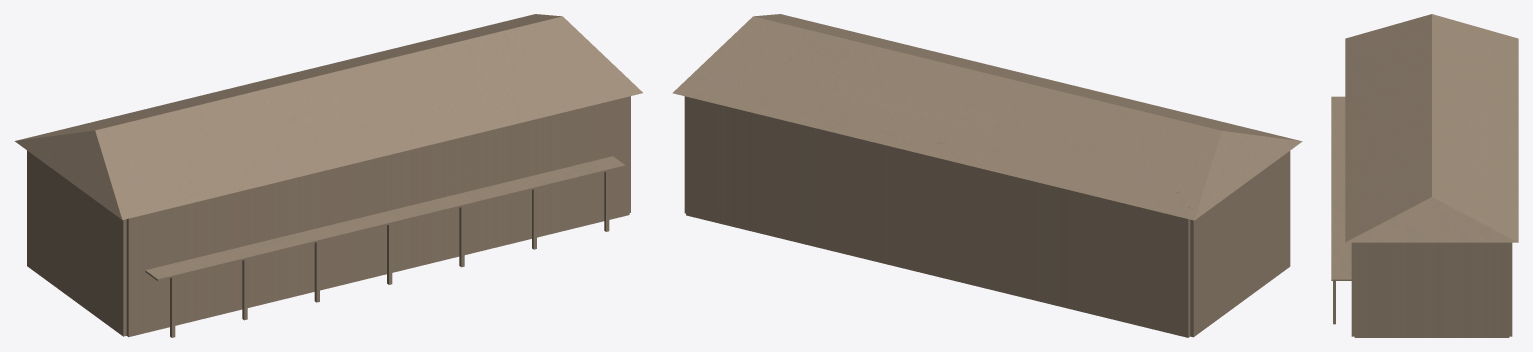
The model's file is french_barracks.glb.
3 views of the same model, side by side, from view 1: azimuth 30°, elevation 25°; view 2: azimuth 150°, elevation 25°; view 3: azimuth 270°, elevation 25° (orthographic). The views are drawn at different scales.
Parts seen in each view (by area): view 1: FrenchBarracks; view 2: FrenchBarracks; view 3: FrenchBarracks.
Part boxes in pixels (x1=…): FrenchBarracks: x1=14, y1=14, x2=642, y2=337; FrenchBarracks: x1=672, y1=14, x2=1302, y2=337; FrenchBarracks: x1=1331, y1=14, x2=1518, y2=337.
Bounding box in the file's own units: 31.2 × 9.5 × 12.1.
1 material, 1 textured.
